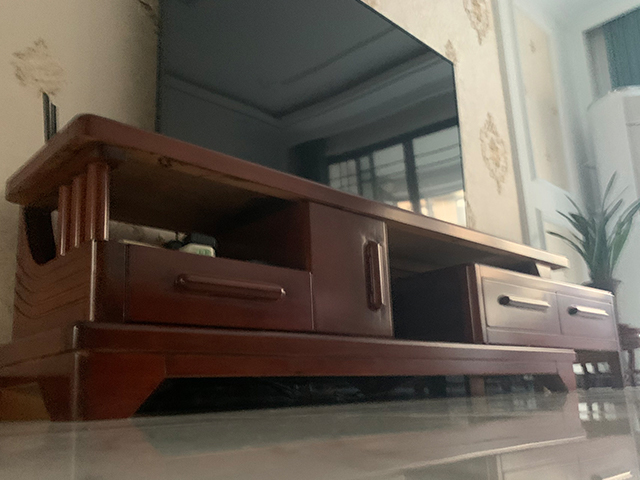cabinet: (1, 110, 627, 424)
